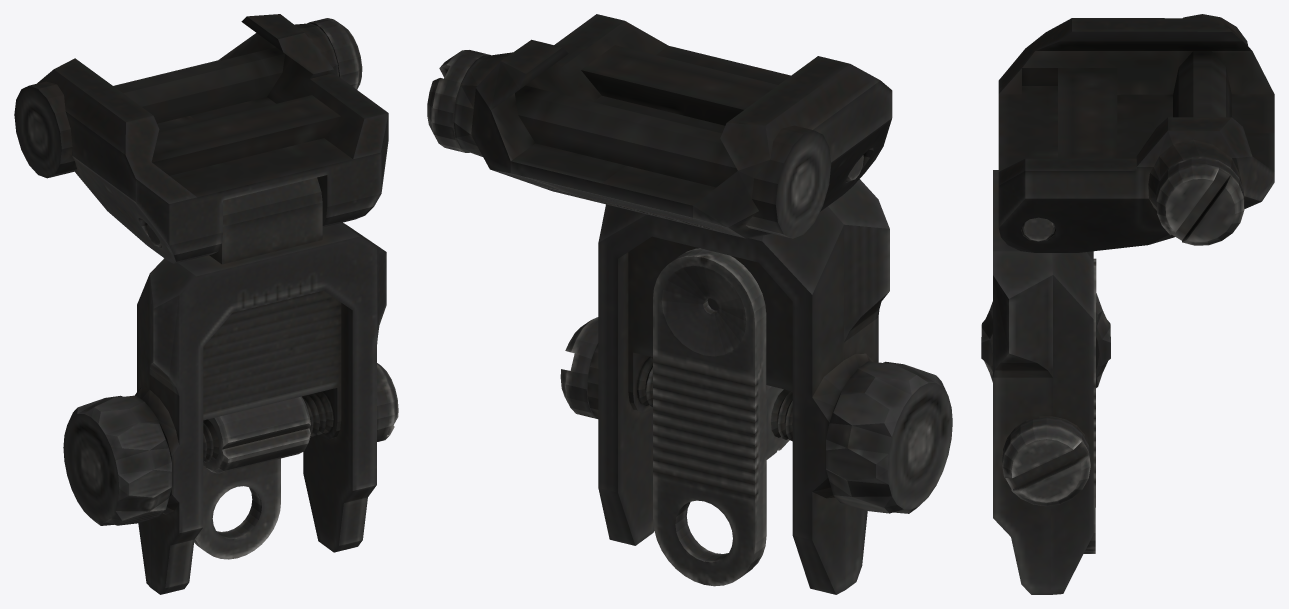
The picture shows the model from 3 angles, left to right: view 1: azimuth 30°, elevation 25°; view 2: azimuth 150°, elevation 25°; view 3: azimuth 270°, elevation 25°; orthographic projection. The views are drawn at different scales.
Parts seen in each view (by area): view 1: TW_5fb6564947ce63734e3fa1da_PZ_Import; view 2: TW_5fb6564947ce63734e3fa1da_PZ_Import; view 3: TW_5fb6564947ce63734e3fa1da_PZ_Import.
Boxes of the visible parts, left/top/right/bottom form: TW_5fb6564947ce63734e3fa1da_PZ_Import: left=14, top=14, right=398, bottom=594; TW_5fb6564947ce63734e3fa1da_PZ_Import: left=427, top=14, right=952, bottom=594; TW_5fb6564947ce63734e3fa1da_PZ_Import: left=981, top=14, right=1274, bottom=594.
Bounding box in the file's own units: 0.0197 × 0.0149 × 0.0266.
Materials: 1 (1 with a texture image).
